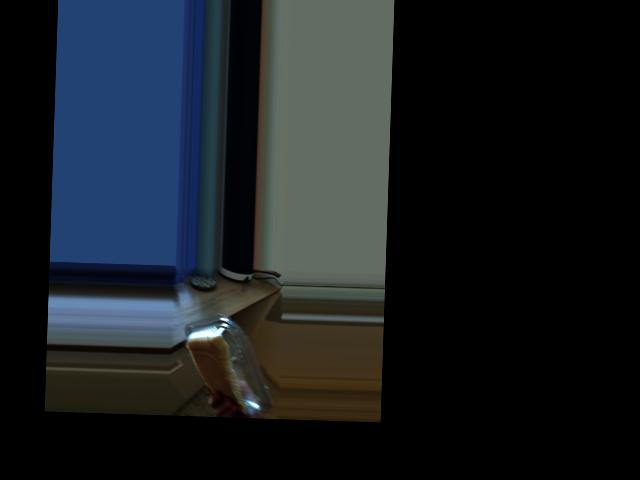cheese: (195, 324, 260, 380)
